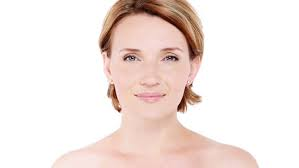white_female: (106, 19, 203, 141)
